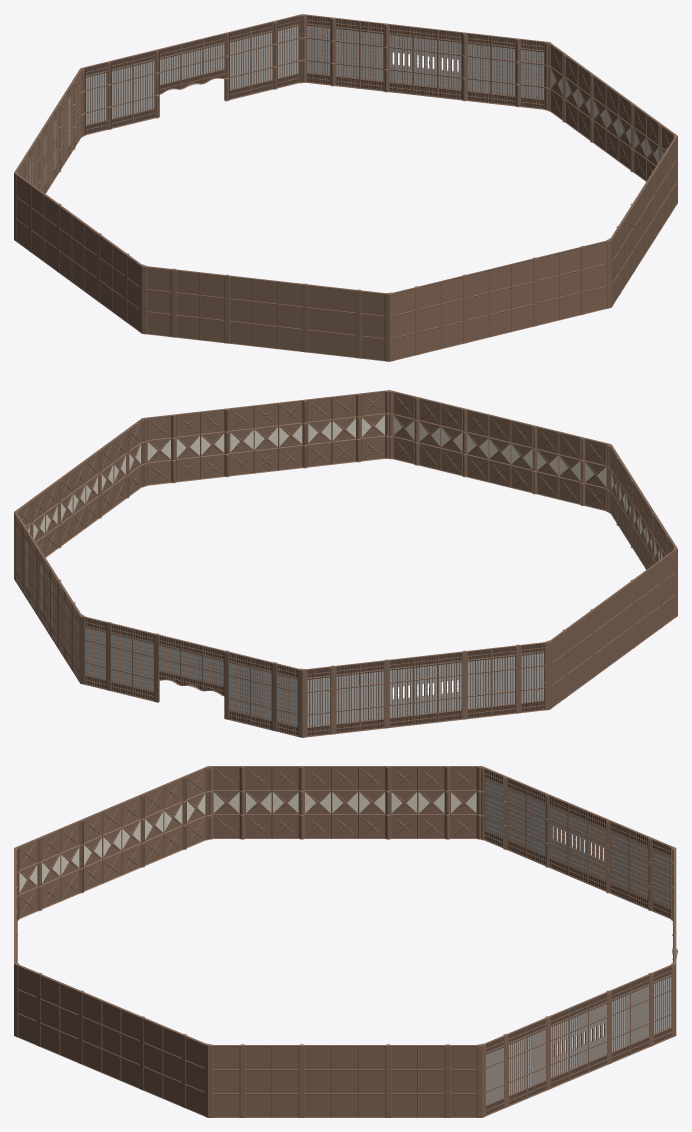
File: Dojo_walls.fbx
The picture shows the model from 3 angles, top to bottom: view 1: azimuth 30°, elevation 25°; view 2: azimuth 150°, elevation 25°; view 3: azimuth 270°, elevation 25°; orthographic projection. The views are drawn at different scales.
Parts seen in each view (by area): view 1: Dojo_walls; view 2: Dojo_walls; view 3: Dojo_walls.
Part boxes in pixels (box(x1,y1,x2,y2)): Dojo_walls: box(14, 14, 677, 361); Dojo_walls: box(14, 390, 677, 737); Dojo_walls: box(14, 766, 677, 1117).
Size of the model in its own units: 181 by 21.66 by 181.
